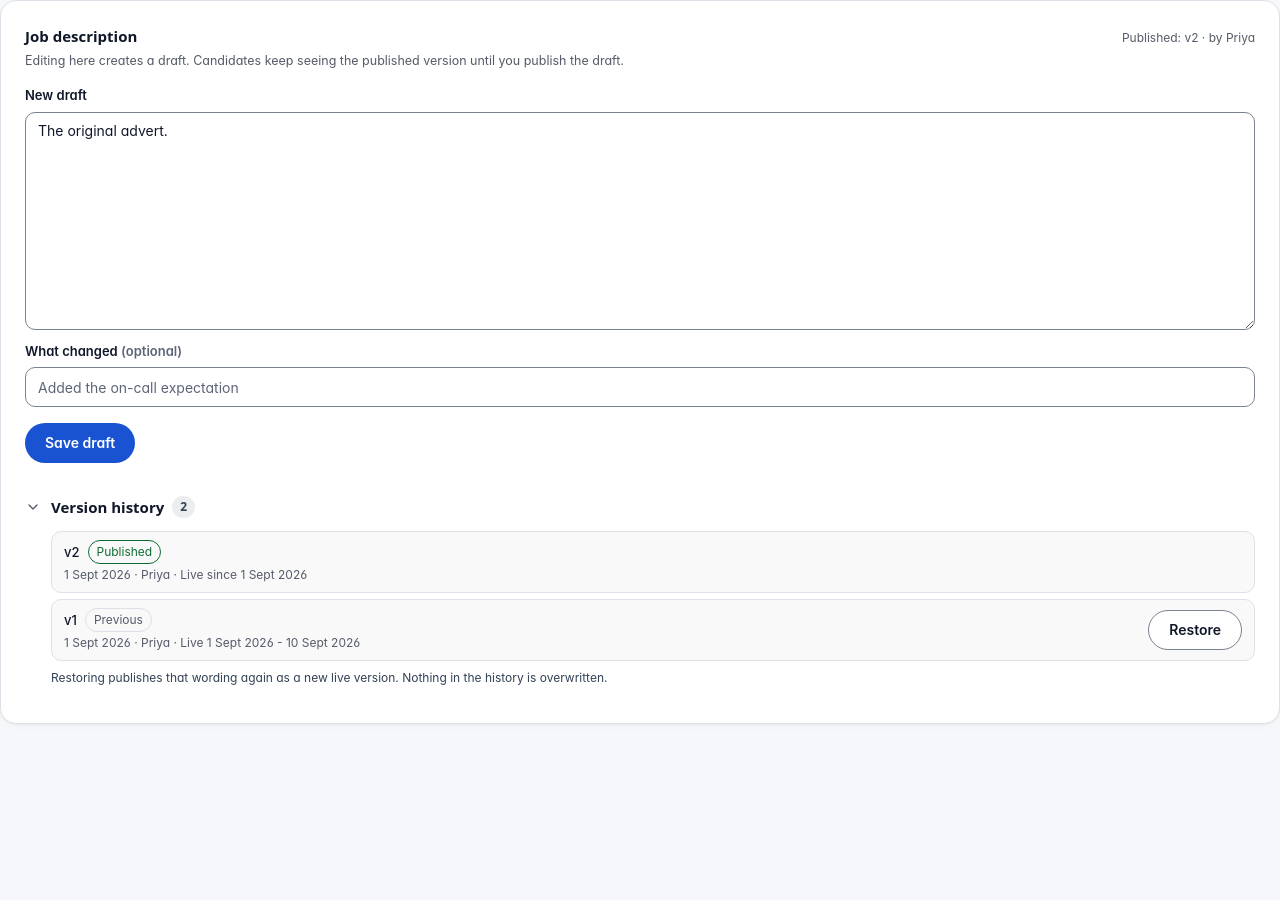
Test case: history › backs out of a restore with Cancel or Escape, and publishes nothing
Click the button "Restore": point(1195, 630) [1148,610,1242,650]
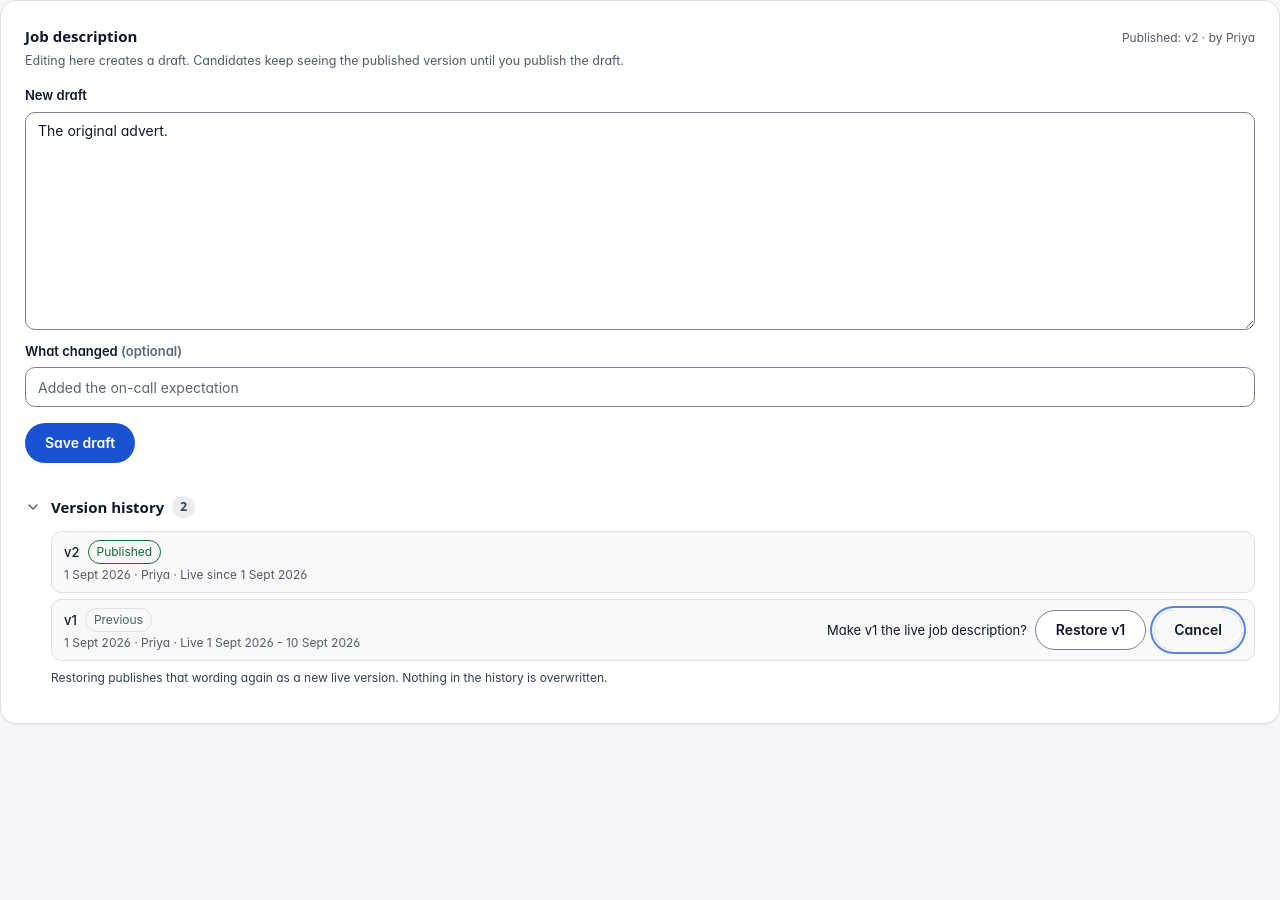
Click the button "Cancel": point(1198, 630) [1154,610,1242,650]
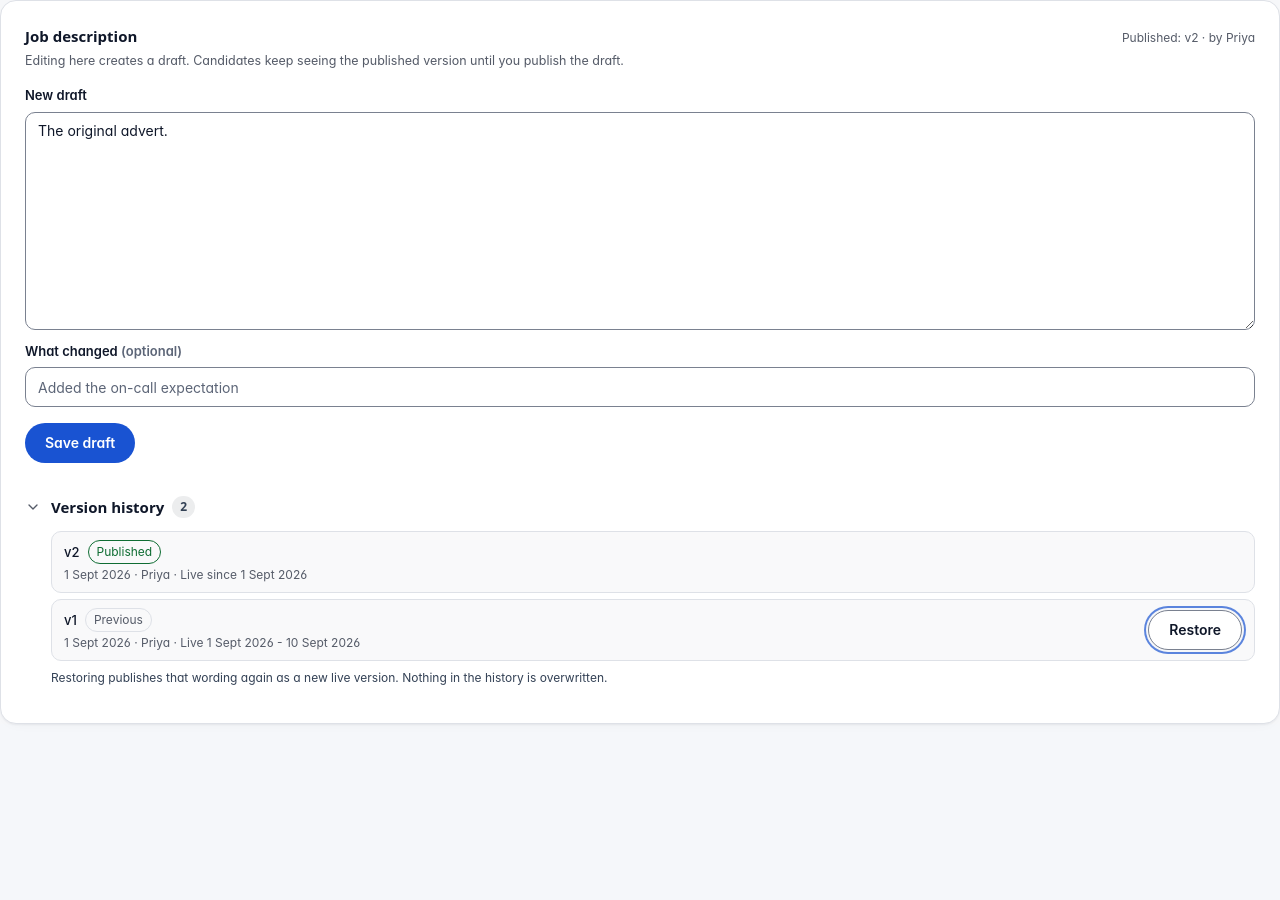
Expected: the text "Make v1 the live job description?" is gone
Click the button "Restore": point(1195, 630) [1148,610,1242,650]
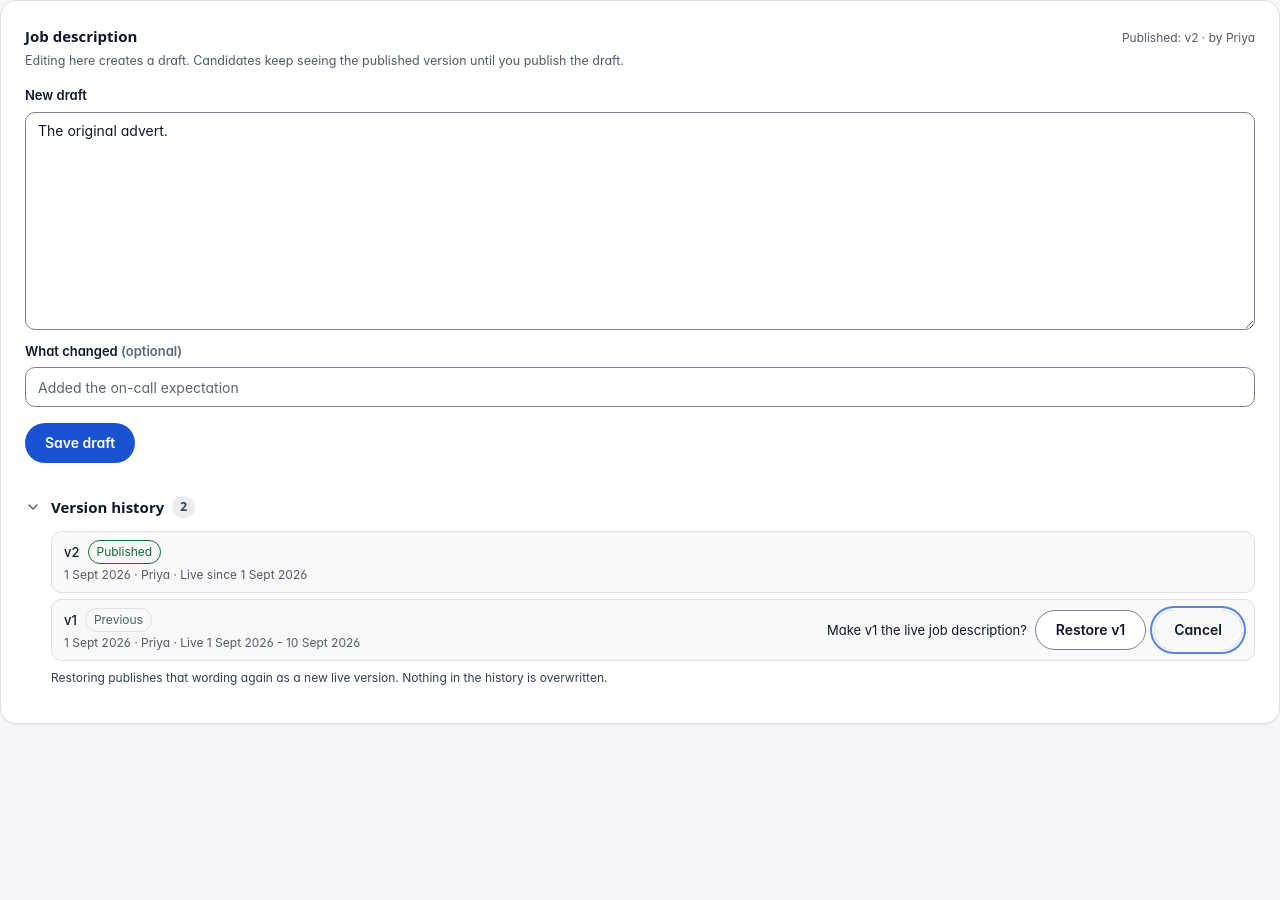
Press Escape
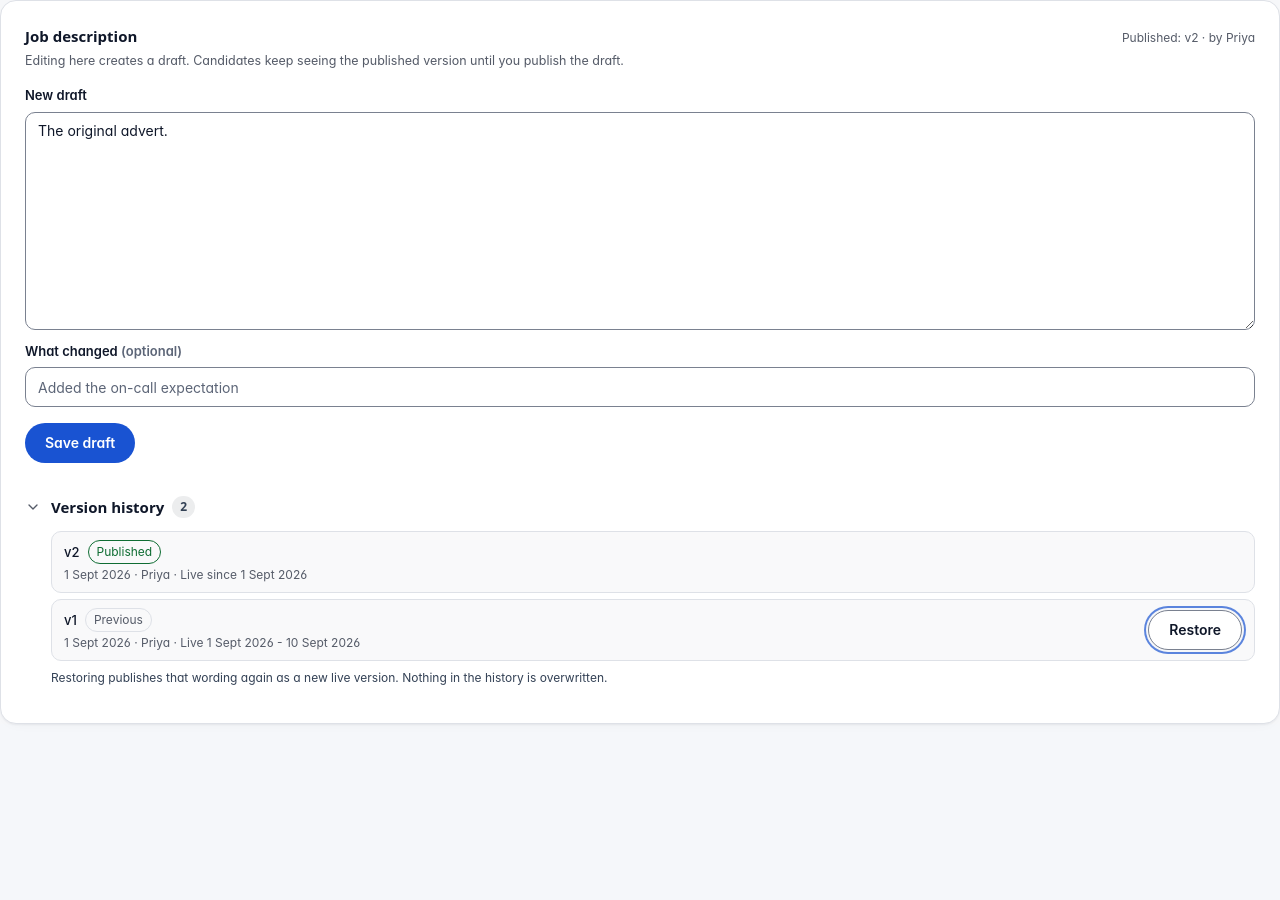
Expected: the text "Make v1 the live job description?" is gone
